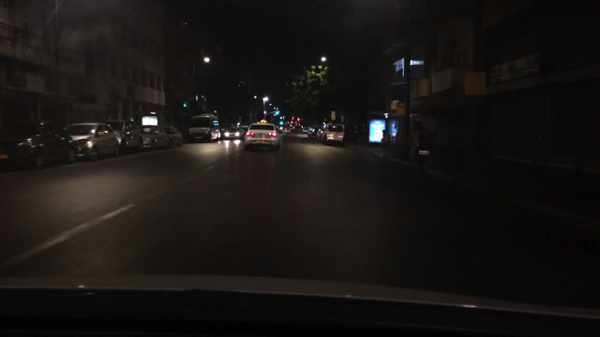bike: (404, 140, 431, 192)
car: (0, 121, 76, 169), (65, 122, 118, 162), (109, 119, 143, 155), (244, 120, 280, 152), (188, 114, 221, 141), (138, 126, 171, 149), (323, 123, 346, 145), (166, 128, 184, 148), (225, 128, 244, 140), (306, 128, 315, 138), (317, 128, 324, 140), (312, 129, 319, 139), (242, 125, 249, 133), (282, 128, 289, 134), (301, 128, 307, 134)
person: (403, 121, 430, 184), (527, 125, 553, 183), (378, 130, 388, 148)
traffic light: (183, 101, 187, 108)
traffic sign: (463, 72, 486, 96)
